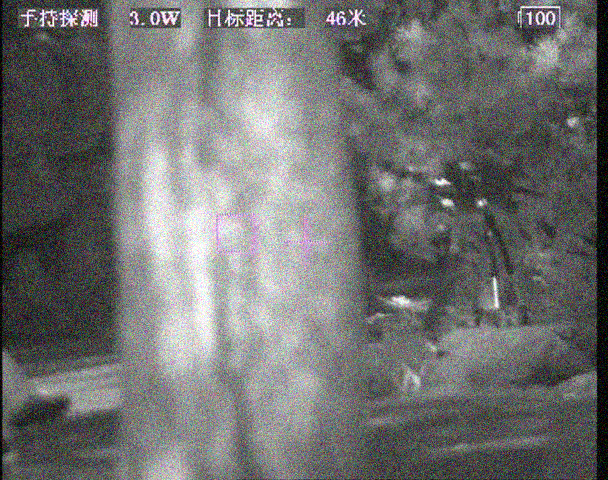my: (476, 199, 486, 207)
